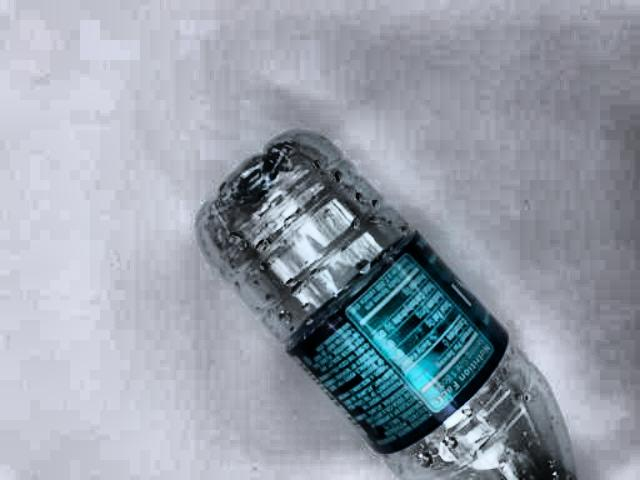Bottles: (181, 107, 599, 480)
